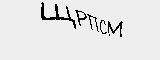М: (106, 19, 126, 38)
П: (85, 13, 100, 34)
Р: (73, 8, 86, 29)
С: (96, 18, 108, 38)
Щ: (37, 2, 76, 28)
